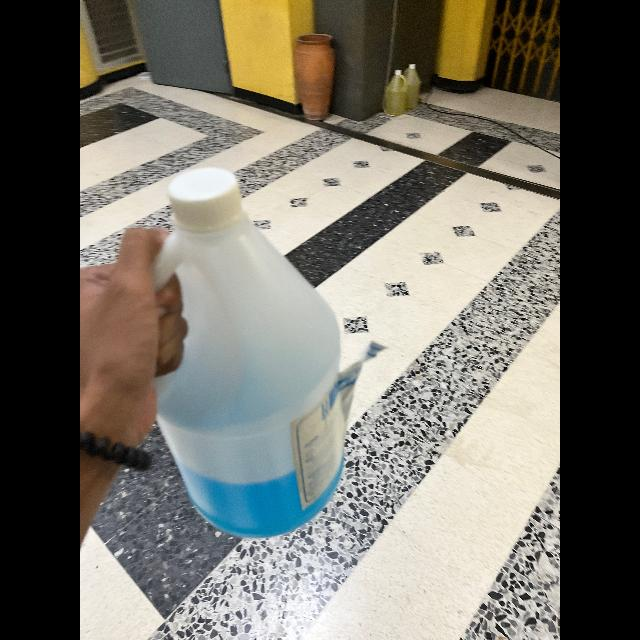chemical_plastic_gallon: (152, 158, 354, 538)
